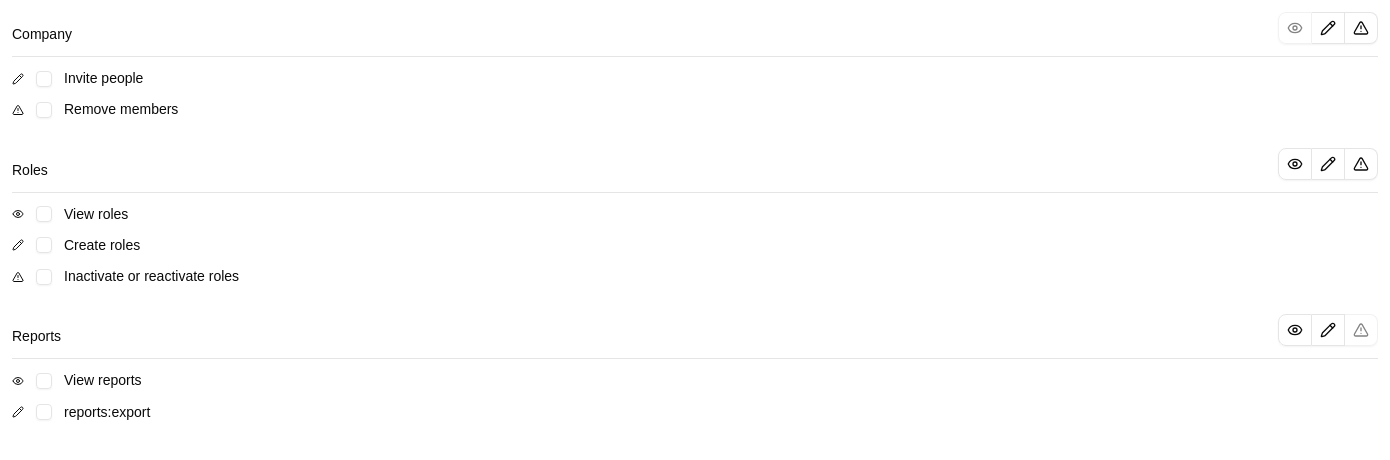
it: PermissionTree › selects everything up to the clicked level and lights the buttons below it
The width and height of the screenshot is (1390, 460).
Click the 2nd button named "Edit". click: coordinates (1328, 164)
box: 1312,148 -> 1345,180
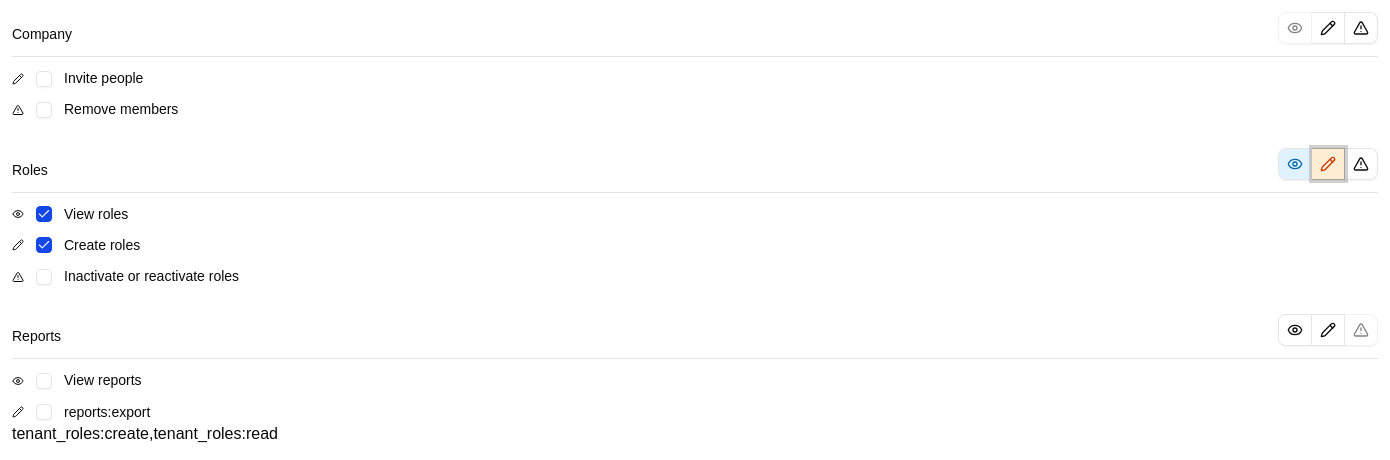
Check: the text "tenant_roles:create,tenant_roles:read" is shown, box 12,425 -> 278,442
Click the 2nd button named "Sensitive actions". click: coordinates (1362, 164)
box: 1345,148 -> 1378,180
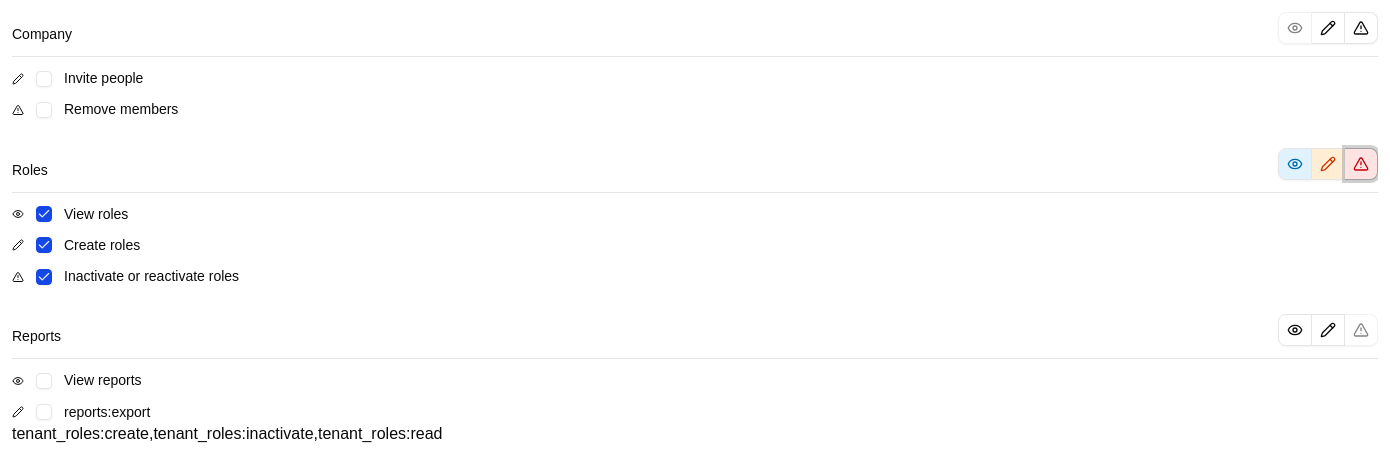
Check: the checkbox named "Inactivate or reactivate roles" next to "Inactivate or reactivate roles" is checked, box 36,269 -> 52,285
